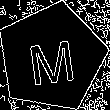M_N: (25, 29, 79, 86)
